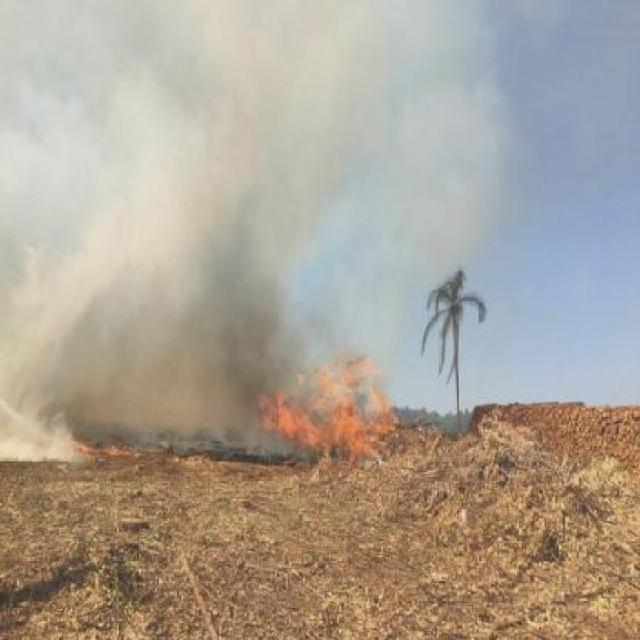Fire: (257, 357, 398, 465)
Smoke: (8, 20, 388, 414)
